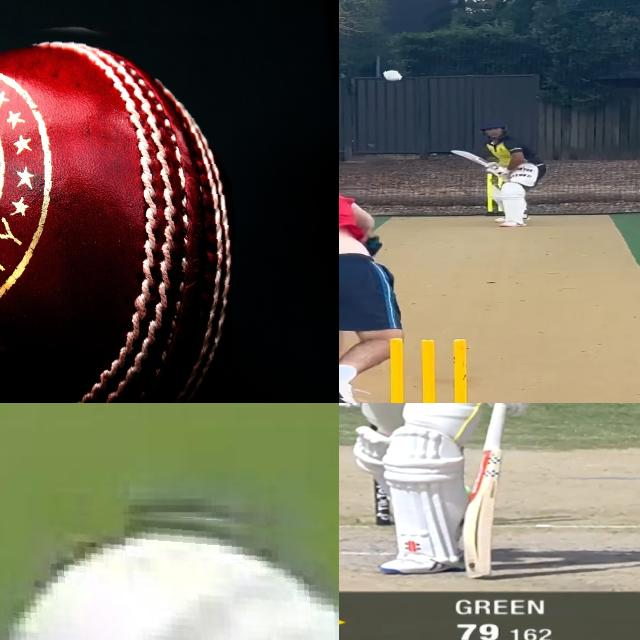Cricket ball: (0, 10, 232, 403), (0, 500, 339, 640), (379, 66, 406, 83)
Stumps: (376, 337, 486, 403)
